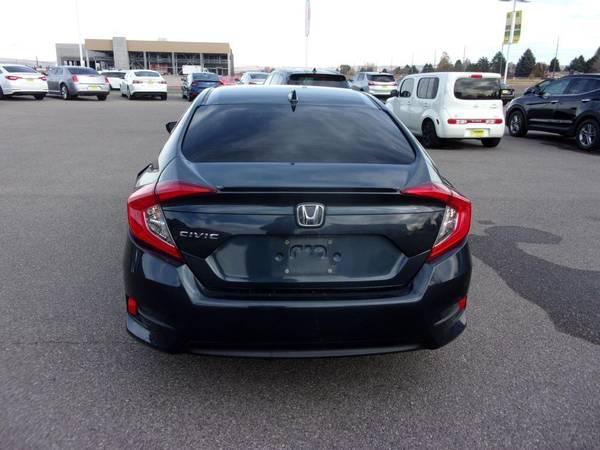Left_Taillight: (128, 180, 217, 264)
Rear_Bumper: (123, 240, 471, 363)
Rear_Windshield: (184, 99, 427, 161)
Right_Taillight: (402, 183, 474, 262)
Roof: (169, 82, 391, 147)
Tailgate: (136, 147, 446, 297)
